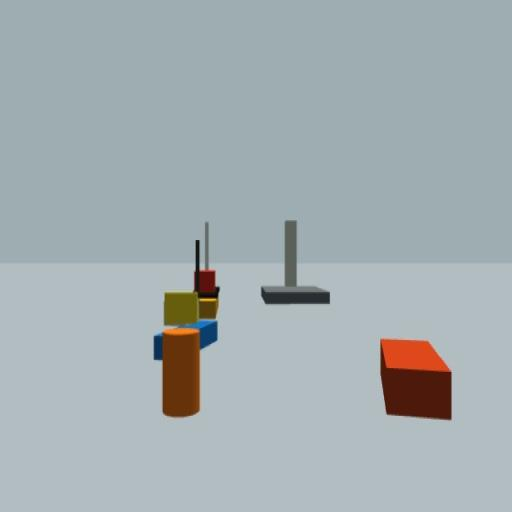buoy: (163, 290, 201, 418)
debris_container: (379, 337, 455, 422)
platform: (261, 221, 332, 309)
